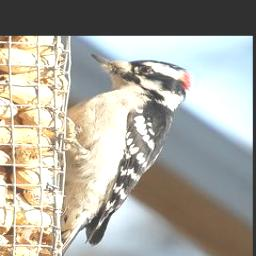Woodpecker: (52, 54, 194, 254)
